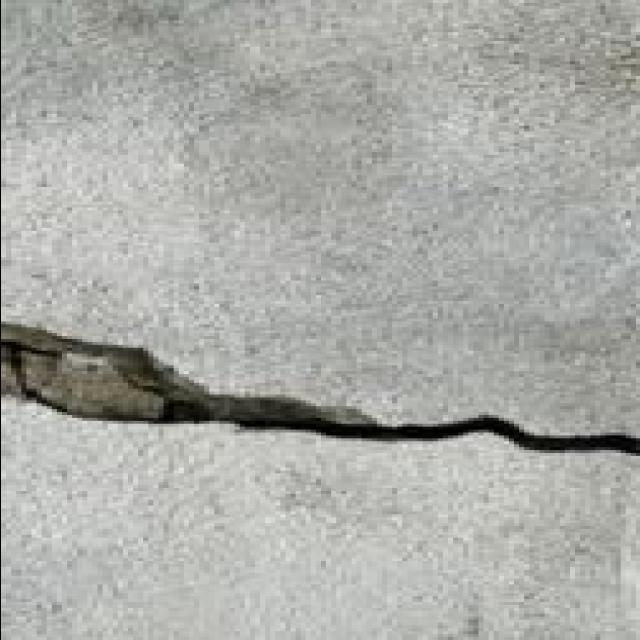wall_crack: (3, 320, 640, 459)
